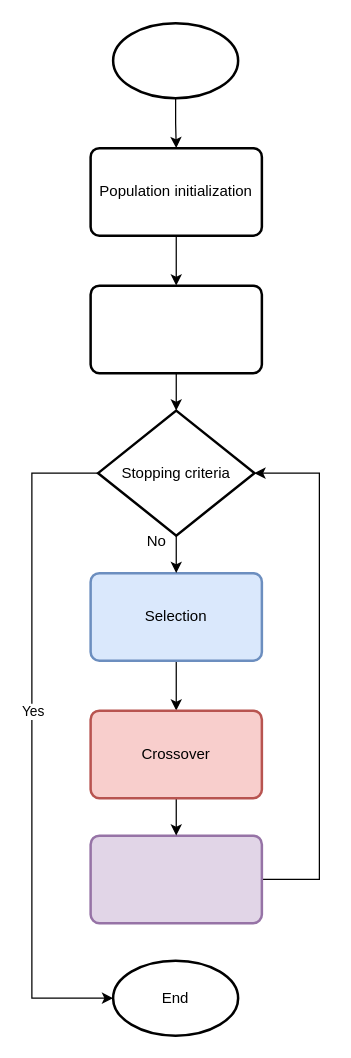
Image size: 351x1058. Some labels were removed from this diagram. Here are the shapes that lost their labels. From the top down, the box of each, then its label:
(111, 21, 239, 99): Start
(89, 284, 262, 374): Fitness Evaluation
(89, 834, 262, 924): Mutation
